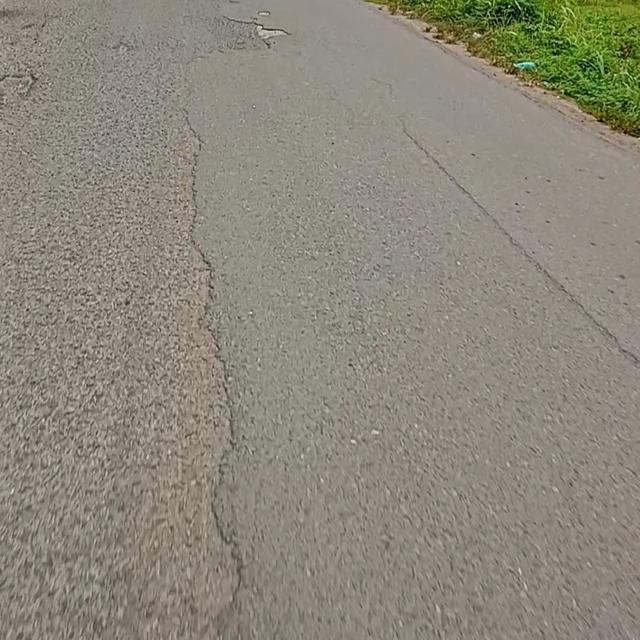Memanjang: (382, 101, 640, 393), (171, 71, 251, 637)
